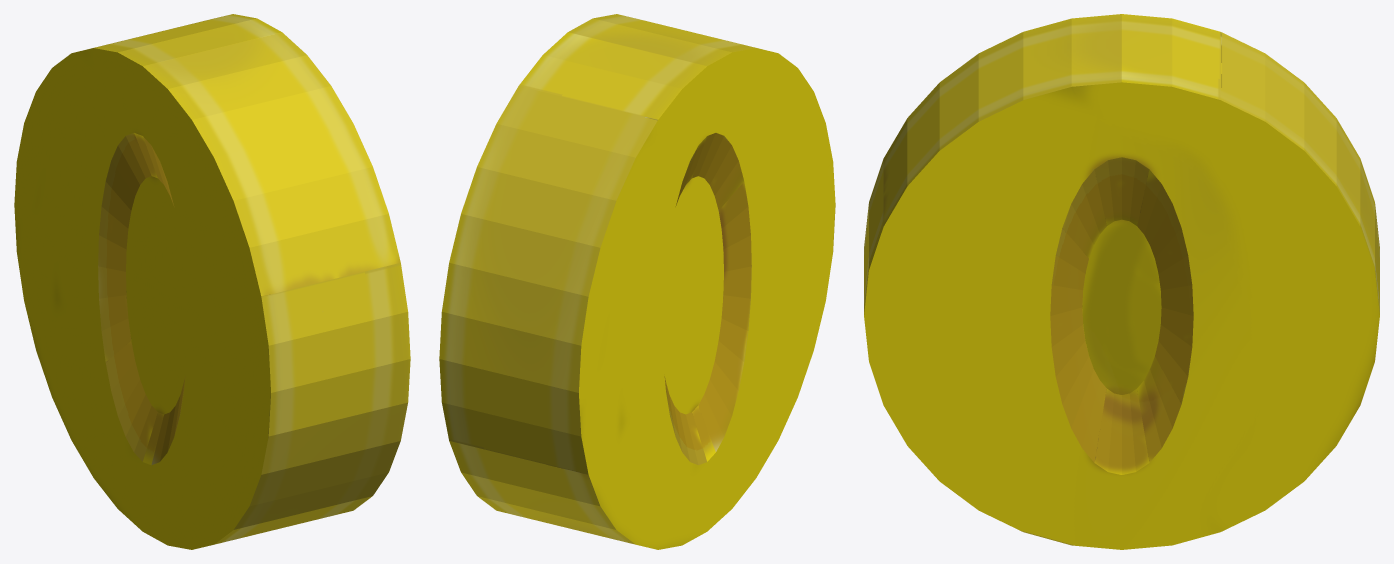
Rendered from element-coin.fbx.
3 renders of one model, left to right at view 1: azimuth 30°, elevation 25°; view 2: azimuth 150°, elevation 25°; view 3: azimuth 270°, elevation 25°, orthographic.
Visible parts, largest first — view 1: Cylinder; view 2: Cylinder; view 3: Cylinder.
Part boxes in pixels (left/top/right/bottom): Cylinder: left=14, top=14, right=410, bottom=549; Cylinder: left=439, top=14, right=835, bottom=549; Cylinder: left=864, top=14, right=1379, bottom=549.
Bounding box in the file's own units: 63.29 × 202 × 202.
